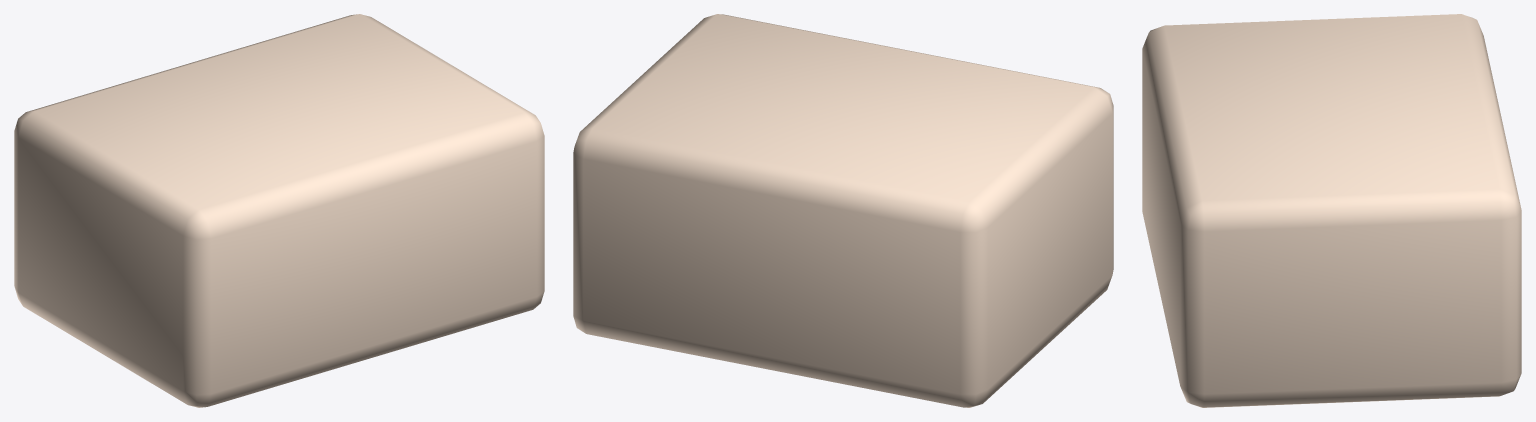
Rendered from bricksVisual.glb.
3 renders of one model, left to right at view 1: azimuth 30°, elevation 25°; view 2: azimuth 150°, elevation 25°; view 3: azimuth 270°, elevation 25°, orthographic. The views are drawn at different scales.
Parts seen in each view (by area): view 1: Cube.120; view 2: Cube.120; view 3: Cube.120.
Part boxes in pixels (box(x1,y1,x2,y2)): Cube.120: box(14, 14, 544, 407); Cube.120: box(573, 14, 1113, 407); Cube.120: box(1142, 14, 1521, 407).
Size of the model in its own units: 1.58 by 0.75 by 1.25.
